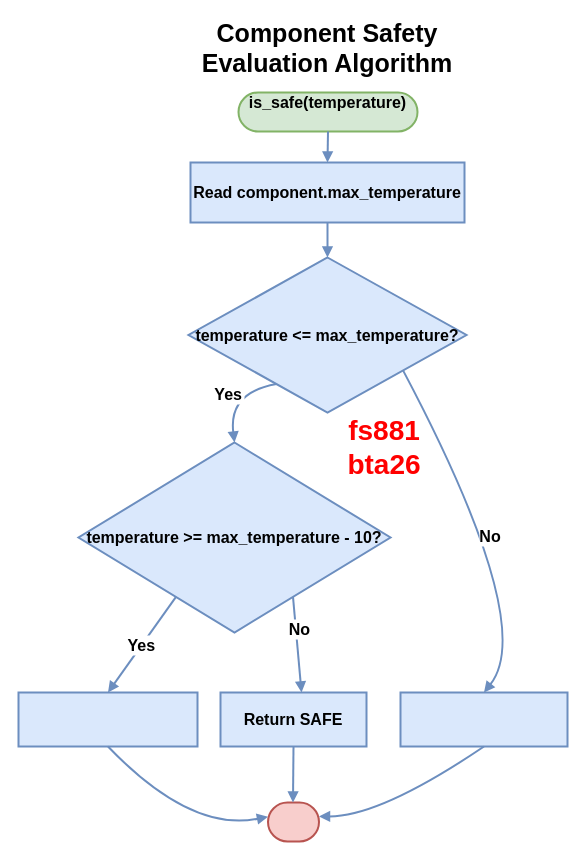
Image size: 585x859. Some labels were removed from this diagram. The centre of each missing label's shape, as x and y in pixels:
End: (293,821)
Return UNSAFE: (483,719)
Return WARNING: (107,719)
